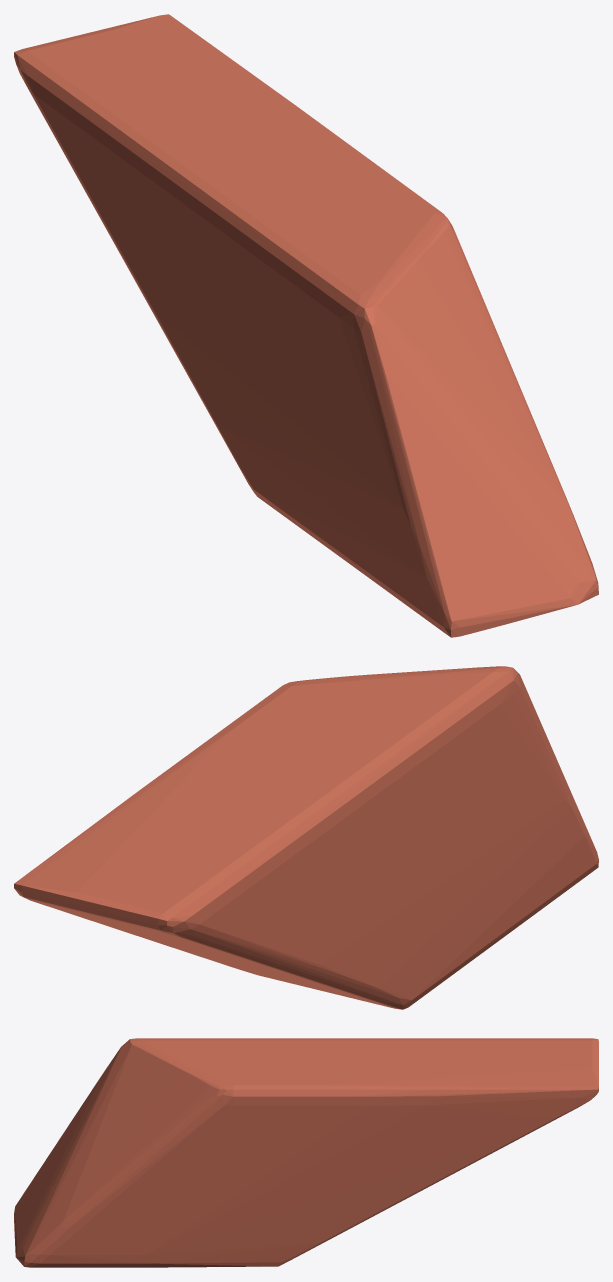
The model's file is right-toe-roll-0_part_9.obj.
The picture shows the model from 3 angles, top to bottom: view 1: azimuth 30°, elevation 25°; view 2: azimuth 150°, elevation 25°; view 3: azimuth 270°, elevation 25°; orthographic projection. The views are drawn at different scales.
Size of the model in its own units: 0.0226 by 0.0347 by 0.1019.
